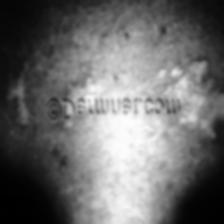Non-Cancerous Skin Condition: (175, 23, 224, 163), (0, 53, 43, 130)
